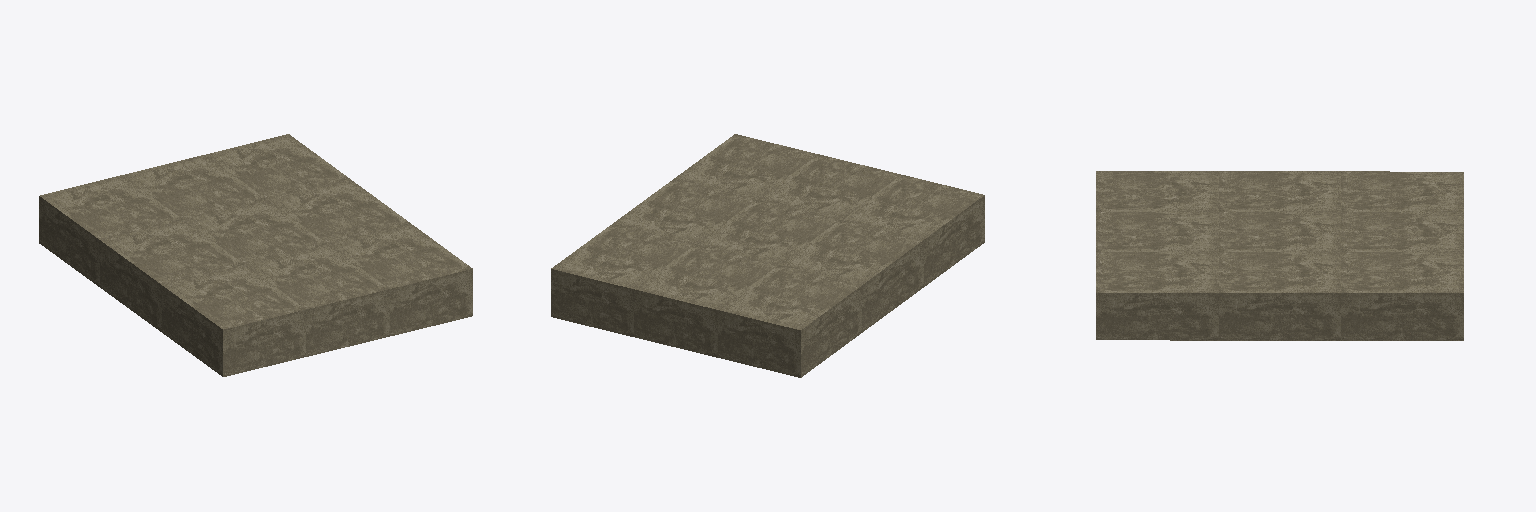
3 views of the same model, side by side, from view 1: azimuth 30°, elevation 25°; view 2: azimuth 150°, elevation 25°; view 3: azimuth 270°, elevation 25° (orthographic).
Parts seen in each view (by area): view 1: Box111; view 2: Box111; view 3: Box111.
Boxes of the visible parts, box(x1,y1,x2,y2) form: Box111: box(39, 134, 472, 376); Box111: box(551, 134, 984, 377); Box111: box(1096, 171, 1463, 340).
Bounding box in the file's own units: 1052 × 194 × 1344.
1 materials, 1 textured.